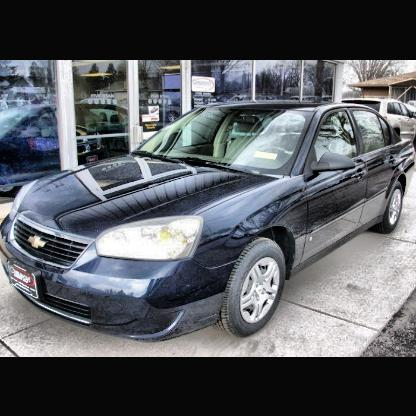Chevrolet Malibu Sedan 2007: (2, 99, 416, 345)
